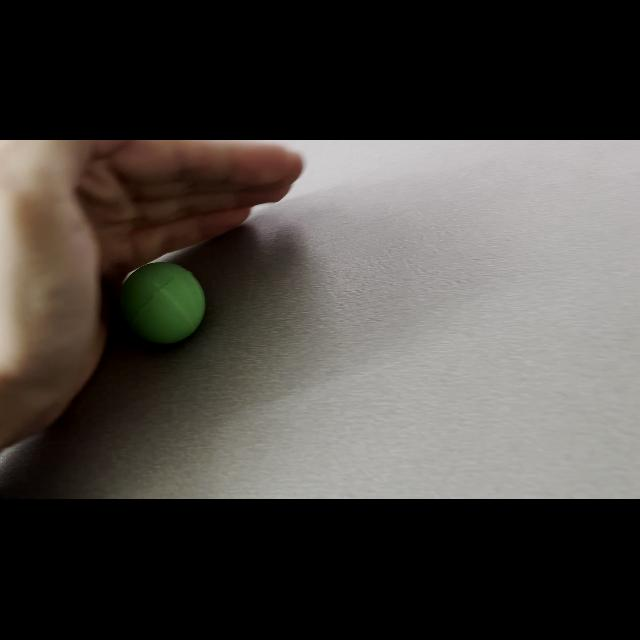objects: (117, 260, 209, 352)
